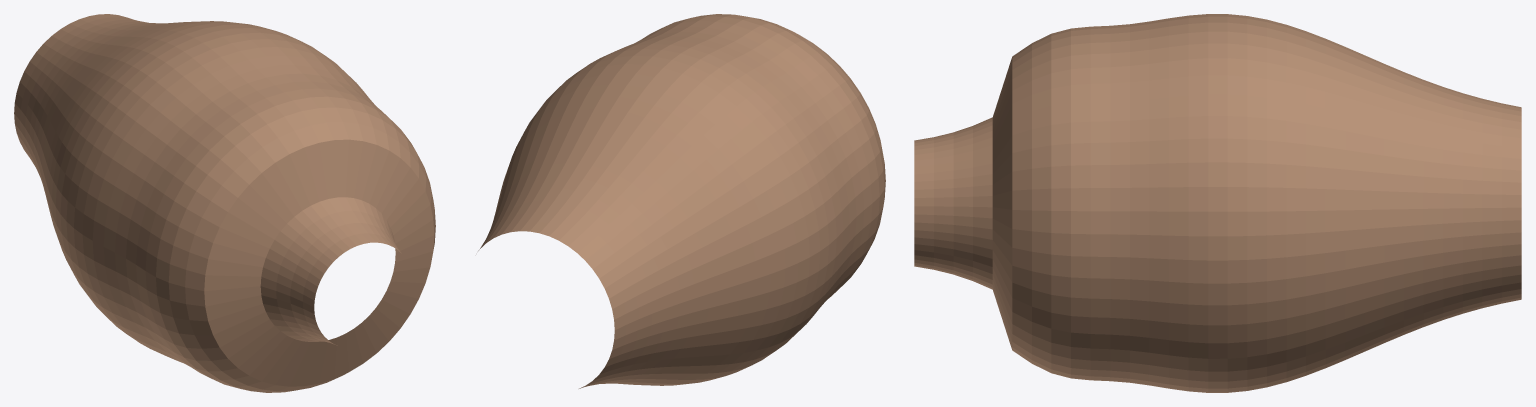
The model's file is ceramic-jar.glb.
3 views of the same model, side by side, from view 1: azimuth 30°, elevation 25°; view 2: azimuth 150°, elevation 25°; view 3: azimuth 270°, elevation 25° (orthographic). The views are drawn at different scales.
Visible parts, largest first — view 1: world; view 2: world; view 3: world.
Part boxes in pixels (<box>): world: <box>14,14,435,392</box>; world: <box>478,14,885,388</box>; world: <box>914,14,1521,392</box>.
Bounding box in the file's own units: 0.9994 × 0.9994 × 1.6.
